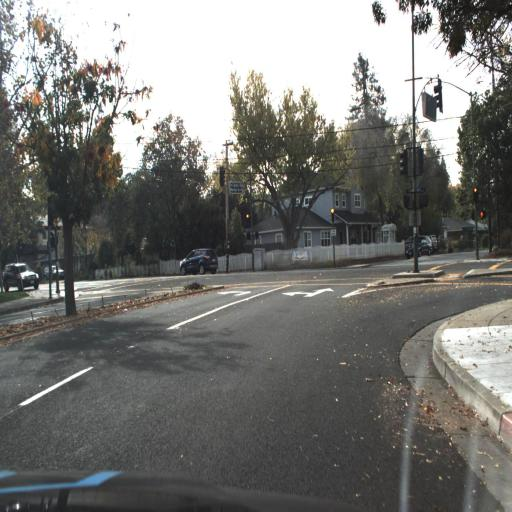car: (176, 246, 218, 276), (2, 260, 41, 290), (403, 237, 429, 259), (43, 262, 65, 278)
trafficLight: (330, 205, 334, 220)
trafficLight-Red: (472, 185, 478, 203), (244, 212, 249, 224)
